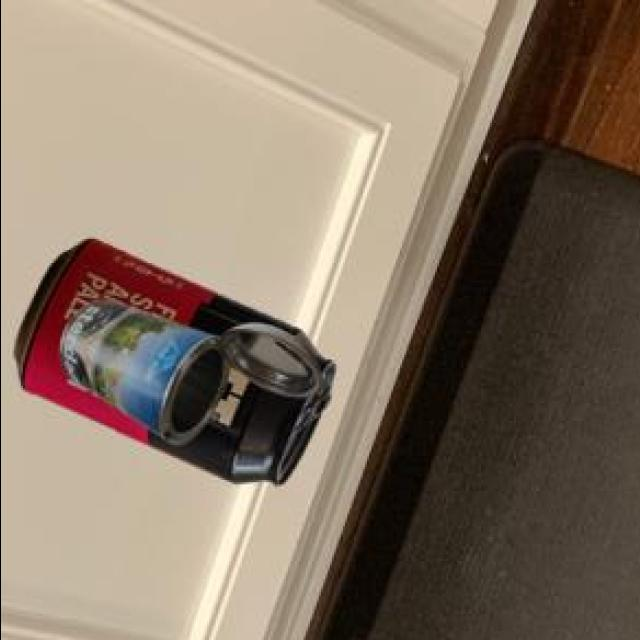logam: (10, 242, 332, 490), (56, 304, 319, 448)
